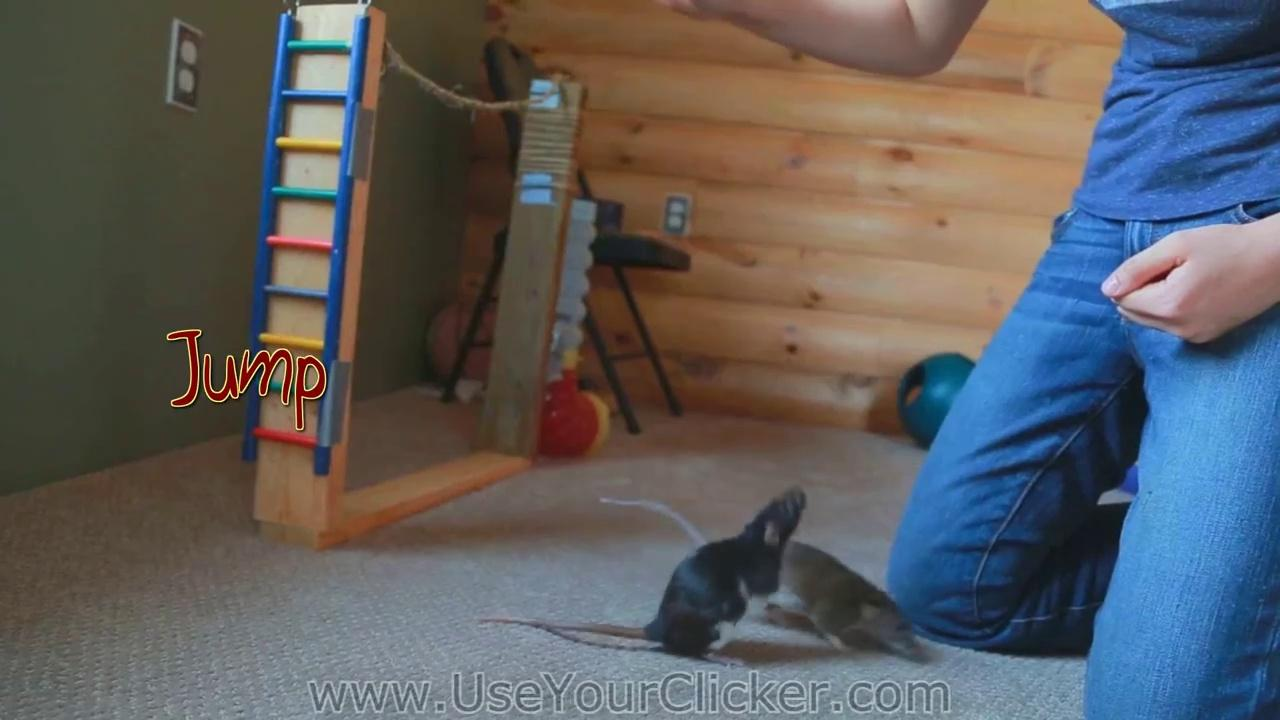rat: (477, 488, 805, 668), (597, 497, 925, 657)
